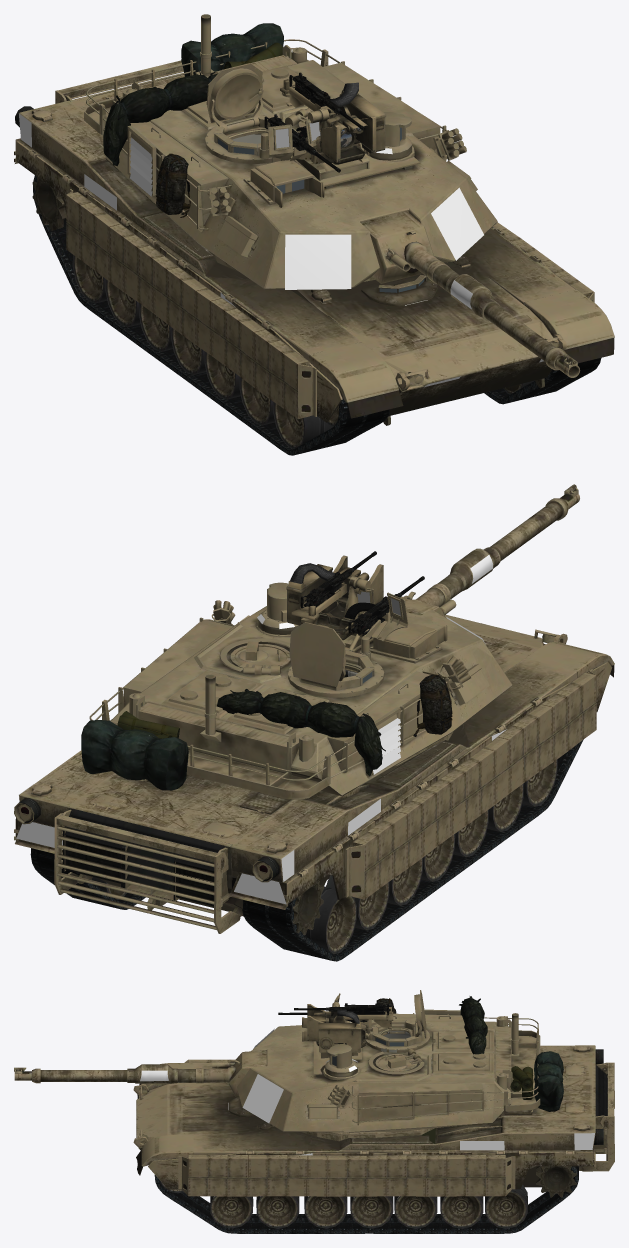
File: abrams-m1a2.glb
3 renders of one model, top to bottom at view 1: azimuth 30°, elevation 25°; view 2: azimuth 150°, elevation 25°; view 3: azimuth 270°, elevation 25°, orthographic. The views are drawn at different scales.
Visible parts, largest first — view 1: Reactive_Armor_tex_0024_1_png_0, Turret_tex_0026_1_png_0, Turret_2_bags_png_0, Alpha_tex_0026_3_png_0, Track_Track_png_0, RC_MG_2_Tex_0005_1_png_0, Manual_MG_1_tex_0027_1_png_0; view 2: Reactive_Armor_tex_0024_1_png_0, Turret_tex_0026_1_png_0, Turret_2_bags_png_0, Track_Track_png_0, RC_MG_2_Tex_0005_1_png_0, Alpha_tex_0026_3_png_0, Manual_MG_1_tex_0027_1_png_0; view 3: Reactive_Armor_tex_0024_1_png_0, Turret_tex_0026_1_png_0, Track_Track_png_0, Turret_2_bags_png_0, RC_MG_2_Tex_0005_1_png_0, Alpha_tex_0026_3_png_0, Manual_MG_1_tex_0027_1_png_0.
Boxes of the visible parts, box(x1,y1,x2,y2) form: Reactive_Armor_tex_0024_1_png_0: box(14, 60, 614, 448); Turret_tex_0026_1_png_0: box(84, 14, 497, 289); Turret_2_bags_png_0: box(103, 23, 292, 217); Alpha_tex_0026_3_png_0: box(15, 114, 543, 387); Track_Track_png_0: box(33, 175, 601, 455); RC_MG_2_Tex_0005_1_png_0: box(280, 79, 386, 164); Manual_MG_1_tex_0027_1_png_0: box(264, 72, 365, 172); Reactive_Armor_tex_0024_1_png_0: box(14, 484, 614, 954); Turret_tex_0026_1_png_0: box(89, 582, 512, 799); Turret_2_bags_png_0: box(81, 674, 452, 790); Track_Track_png_0: box(30, 669, 593, 961); RC_MG_2_Tex_0005_1_png_0: box(286, 555, 383, 640); Alpha_tex_0026_3_png_0: box(16, 552, 506, 904); Manual_MG_1_tex_0027_1_png_0: box(300, 551, 424, 635); Reactive_Armor_tex_0024_1_png_0: box(14, 1045, 614, 1228); Turret_tex_0026_1_png_0: box(237, 990, 540, 1132); Track_Track_png_0: box(154, 1158, 578, 1233); Turret_2_bags_png_0: box(376, 996, 563, 1111); RC_MG_2_Tex_0005_1_png_0: box(307, 1002, 393, 1052); Alpha_tex_0026_3_png_0: box(136, 1028, 594, 1155); Manual_MG_1_tex_0027_1_png_0: box(278, 1003, 390, 1022).
Bounding box in the file's own units: 3.89 × 3.39 × 9.97.
Materials: 12 (10 with a texture image).
